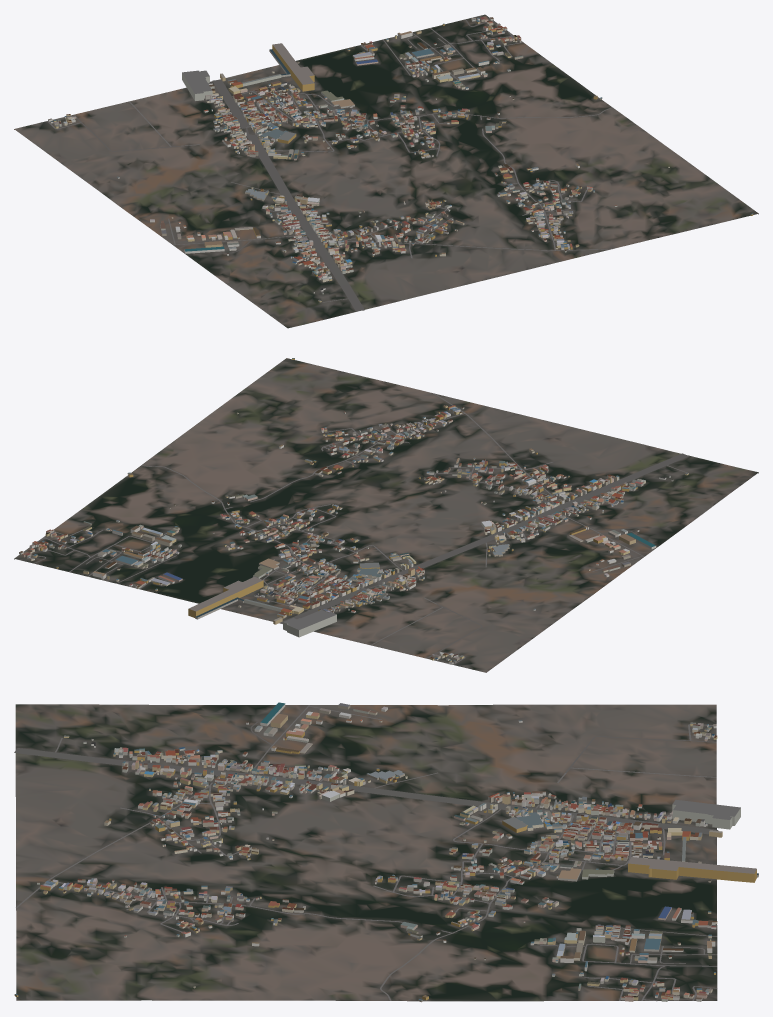
3 views of the same model, one above another, from view 1: azimuth 30°, elevation 25°; view 2: azimuth 150°, elevation 25°; view 3: azimuth 270°, elevation 25° (orthographic). The views are drawn at different scales.
Parts seen in each view (by area): view 1: ground, buildings, roads; view 2: ground, buildings, roads; view 3: ground, buildings, roads.
Part boxes in pixels (x1,y1,x2,y2): ground: (14,14,758,328); buildings: (48,16,753,302); roads: (47,19,612,311); ground: (14,358,758,672); buildings: (19,358,688,664); roads: (24,393,688,664); ground: (15,704,717,1001); buildings: (14,702,758,1002); roads: (14,705,718,1001).
Bounding box in the file's own units: 1402 × 23.67 × 1490.
